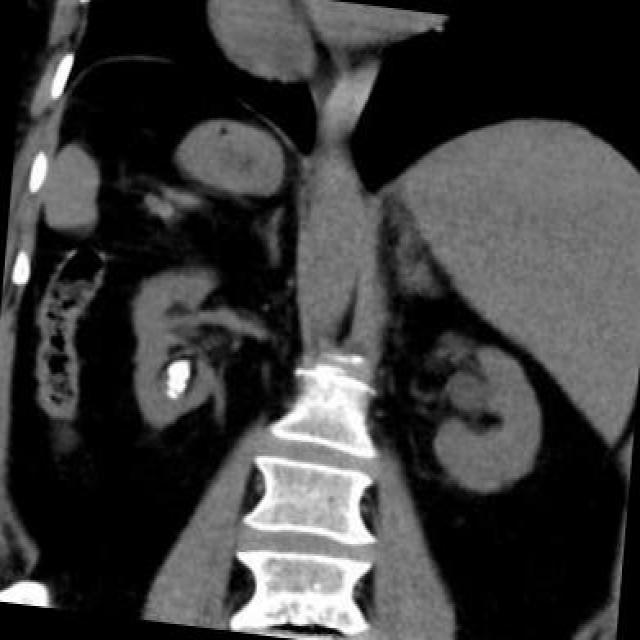Tas_Var: (164, 352, 190, 382), (164, 388, 176, 400), (173, 379, 185, 391), (164, 379, 174, 391)
